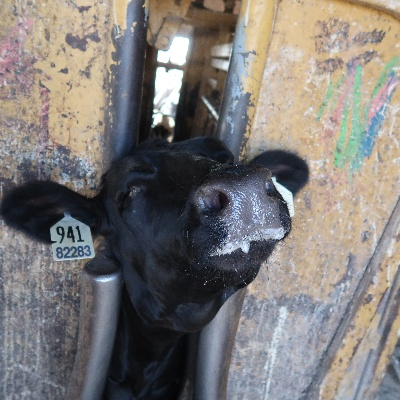fidget_spinner: (184, 160, 292, 256), (184, 178, 295, 256)
